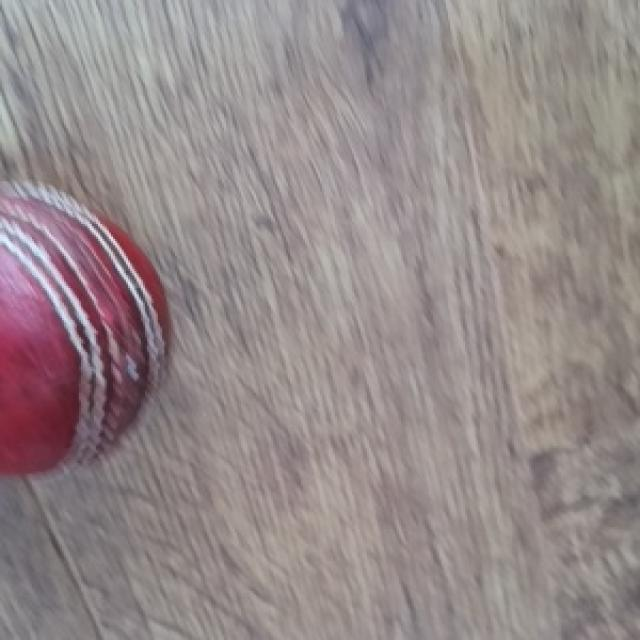ball: (0, 177, 171, 482)
